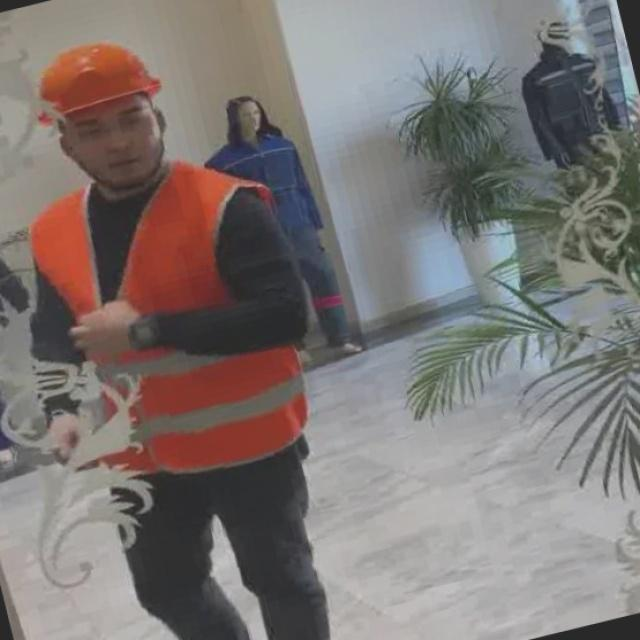helmet: (31, 44, 165, 110)
safety_vest: (34, 164, 327, 483)
